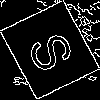S: (25, 25, 85, 76)
